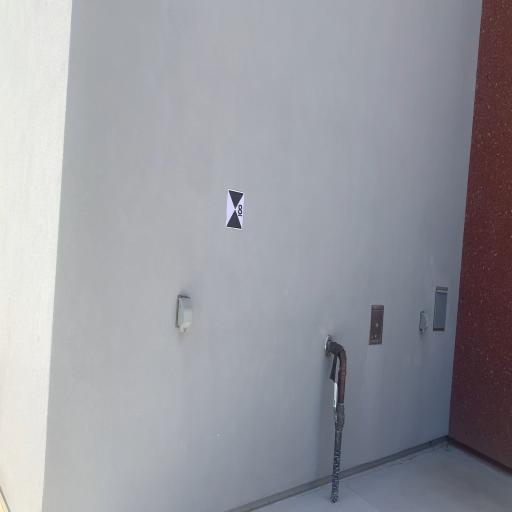target8: (225, 189, 245, 232)
